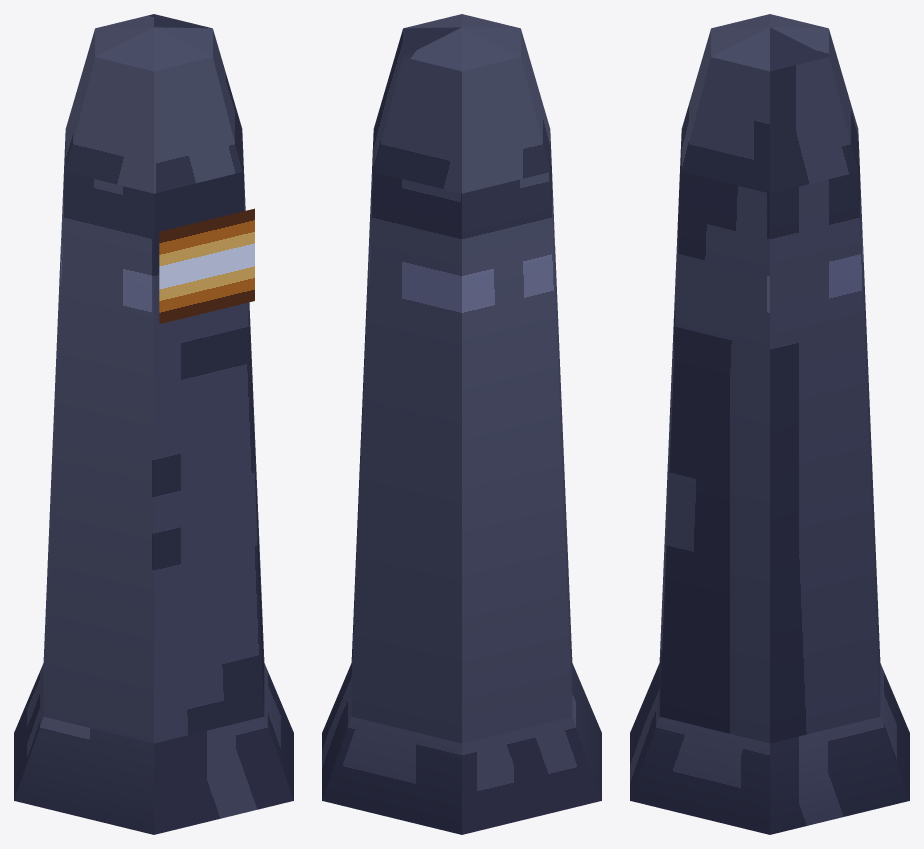
File: cydress.bollard.glb
3 renders of one model, left to right at view 1: azimuth 30°, elevation 25°; view 2: azimuth 150°, elevation 25°; view 3: azimuth 270°, elevation 25°, orthographic.
Visible parts, largest first — view 1: kit_body, kit_card_details; view 2: kit_body; view 3: kit_body.
Part boxes in pixels (bbox=[...]): kit_body: bbox=[14, 14, 293, 834]; kit_card_details: bbox=[159, 208, 254, 324]; kit_body: bbox=[322, 14, 601, 834]; kit_body: bbox=[630, 14, 909, 834].
Size of the model in its own units: 0.38 by 0.96 by 0.3291.
Materials: 2 (2 with a texture image).
